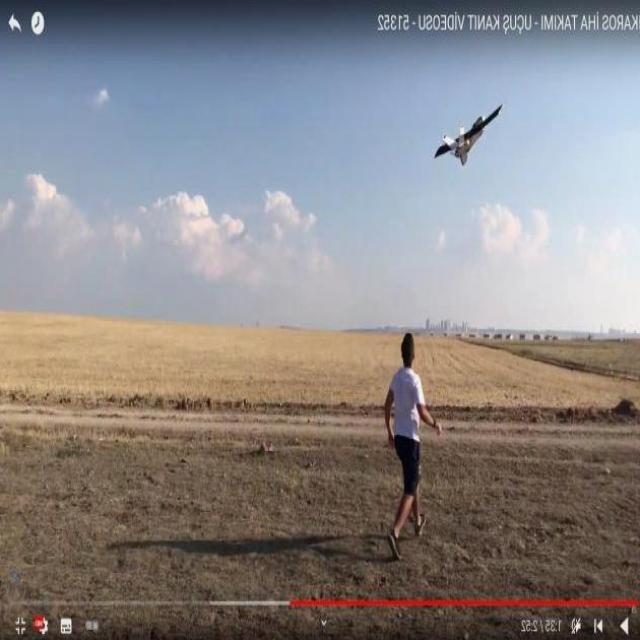plane: (432, 102, 503, 166)
